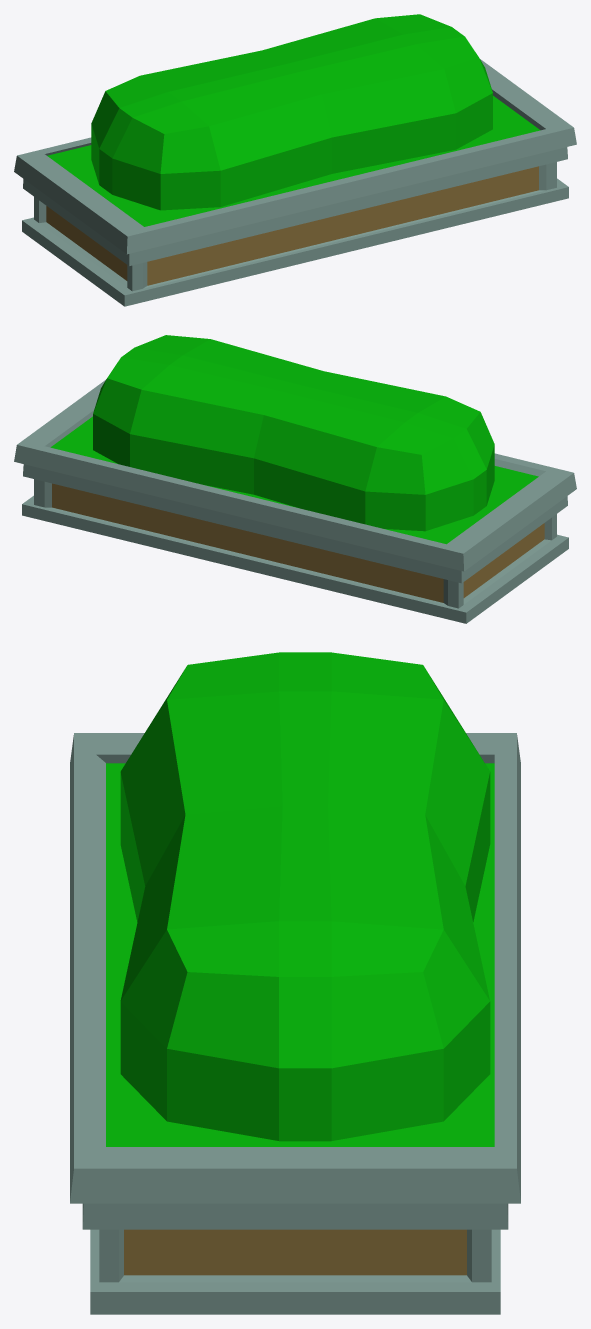
The model's file is matero.fbx.
3 renders of one model, top to bottom at view 1: azimuth 30°, elevation 25°; view 2: azimuth 150°, elevation 25°; view 3: azimuth 270°, elevation 25°, orthographic. The views are drawn at different scales.
Visible parts, largest first — view 1: tierra, plantera, entre-muros; view 2: tierra, plantera, entre-muros; view 3: tierra, plantera, entre-muros.
Boxes of the visible parts, box(x1,y1,x2,y2) form: tierra: box(47, 14, 540, 226); plantera: box(14, 59, 576, 306); entre-muros: box(46, 166, 538, 285); tierra: box(50, 335, 538, 544); plantera: box(14, 380, 576, 623); entre-muros: box(52, 483, 544, 602); tierra: box(106, 652, 494, 1146); plantera: box(70, 733, 520, 1314); entre-muros: box(124, 1229, 466, 1275).
Size of the model in its own units: 265 by 81.74 by 115.
